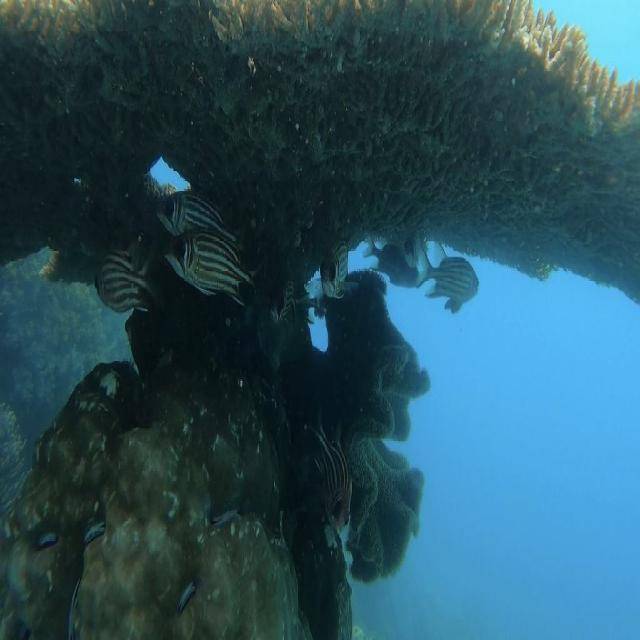Asker Baligi: (167, 230, 250, 316), (310, 402, 356, 540), (81, 253, 156, 321), (423, 246, 491, 309), (311, 236, 355, 331)
